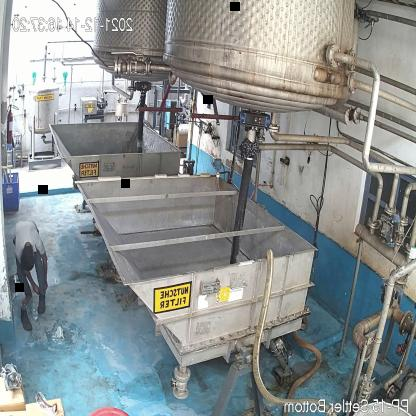no_shoes: (20, 290, 32, 308)
shoes: (19, 306, 33, 334), (36, 290, 48, 319)
